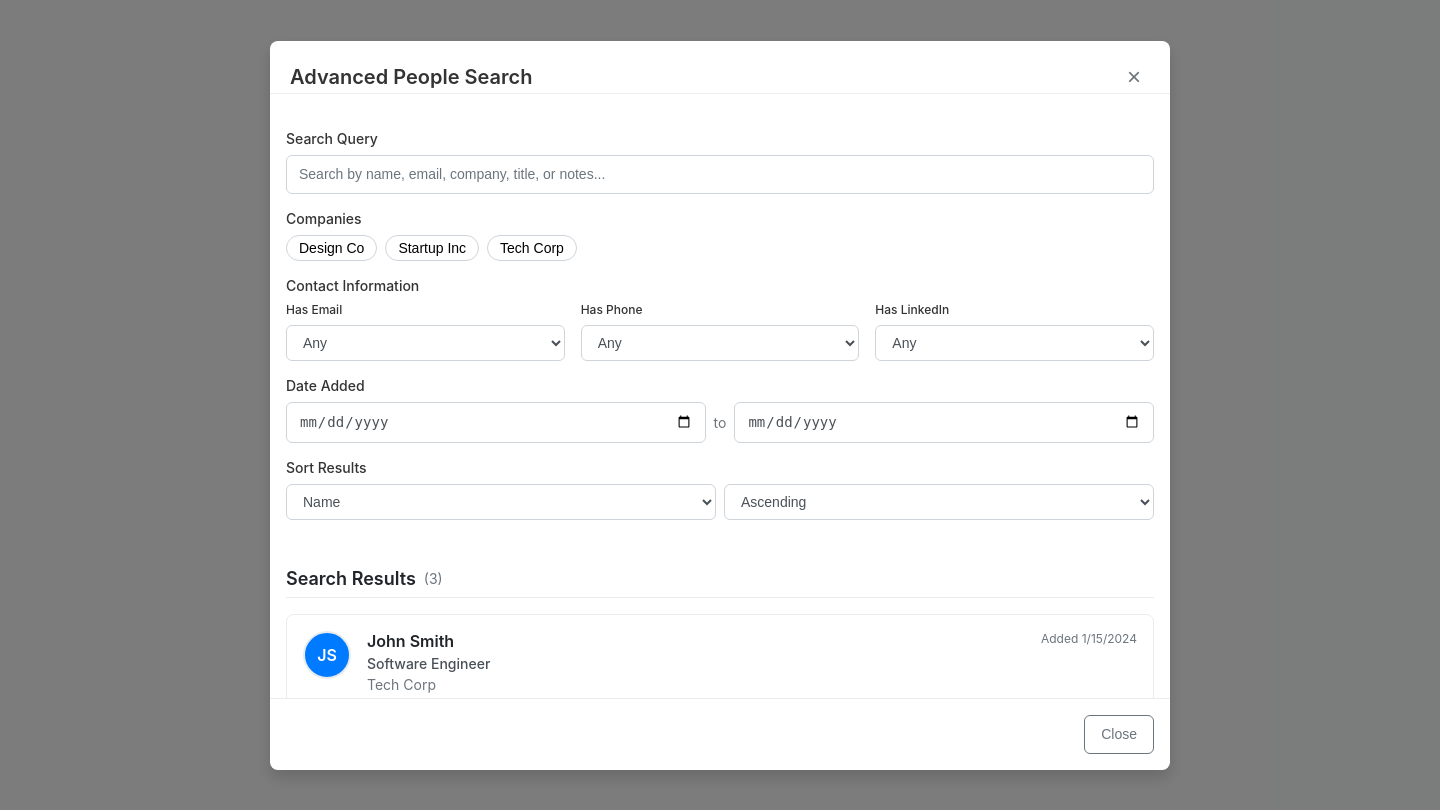
Test case: PeopleSearch › filters by contact information
The width and height of the screenshot is (1440, 810).
Select "Yes" in the dropdown showing "Any" below "Has Email" at (425, 342), box top-left (286, 324), bottom-right (565, 360)
(page scrolled)
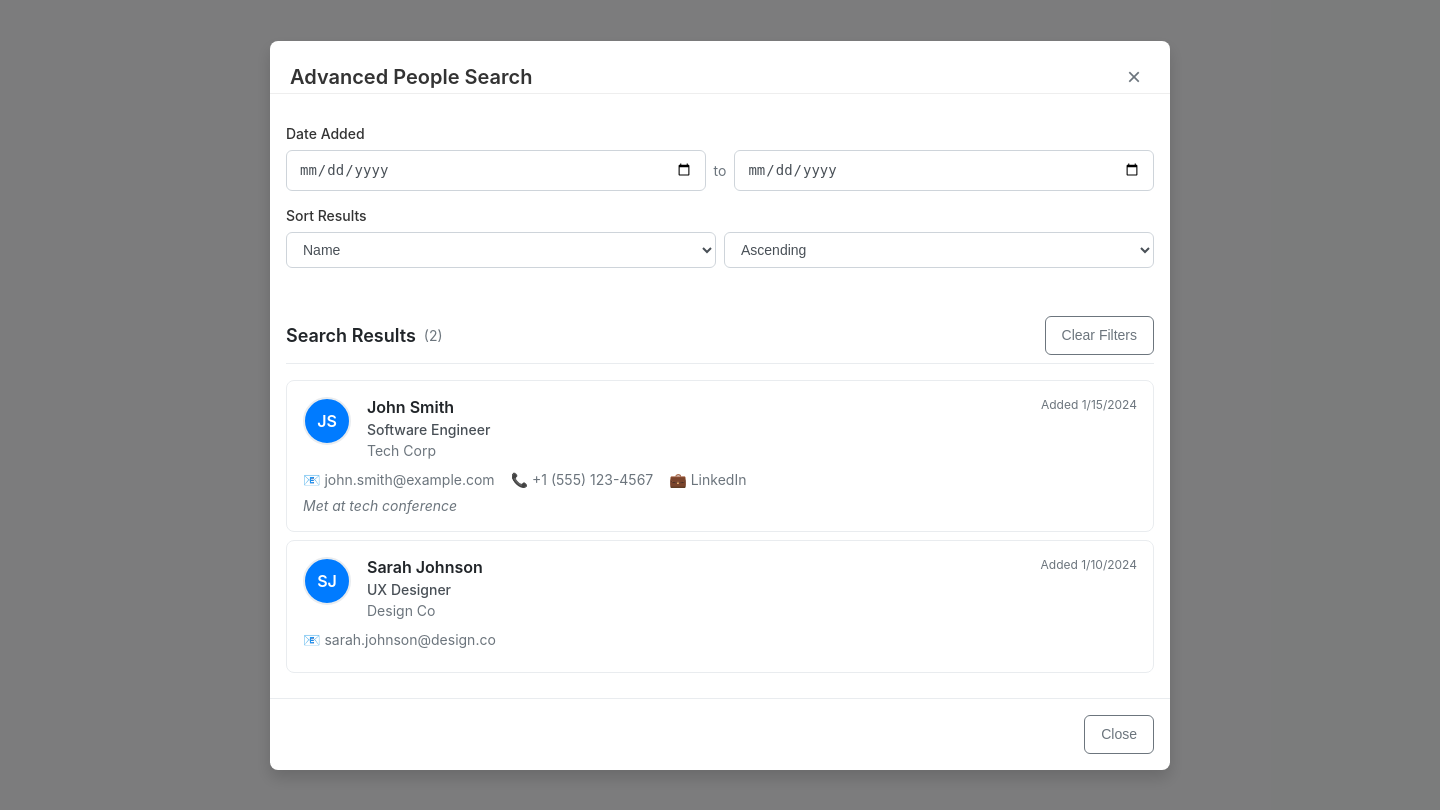
Expected: the heading "John Smith" is shown, top-left (367, 396), bottom-right (454, 416)
Result: the heading "Sarah Johnson" is shown at top-left (367, 557), bottom-right (483, 577)
